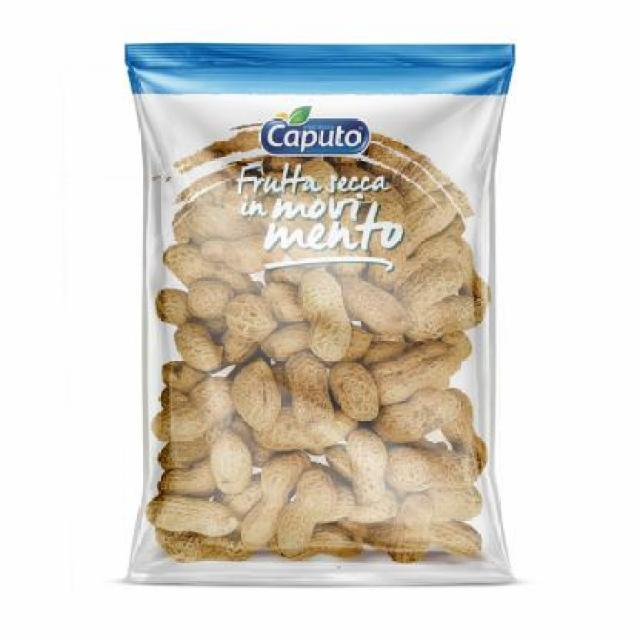Frutta secca: (152, 276, 480, 562)
